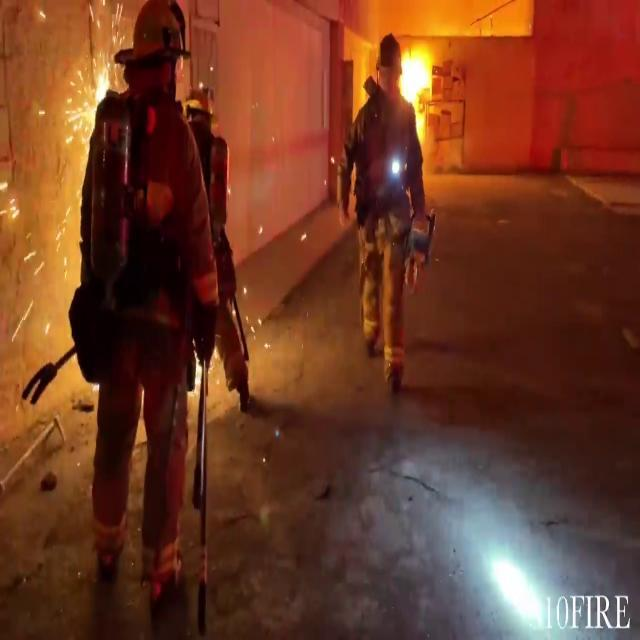Fire: (392, 35, 442, 133)
